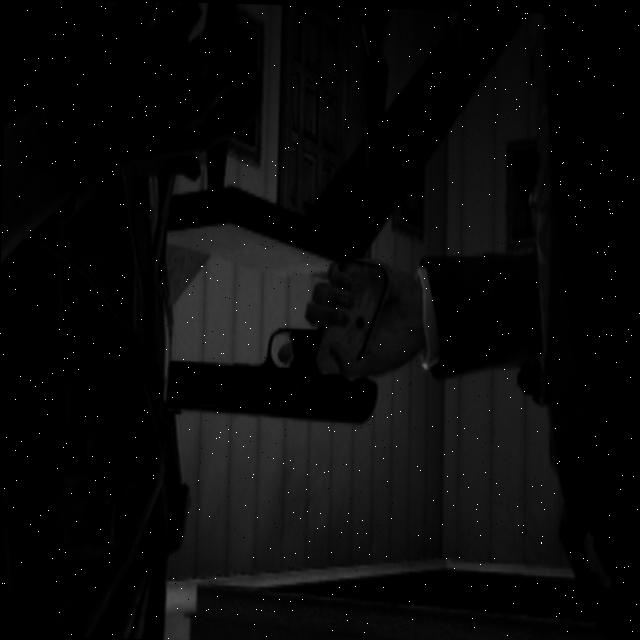pistol: (162, 249, 390, 424)
